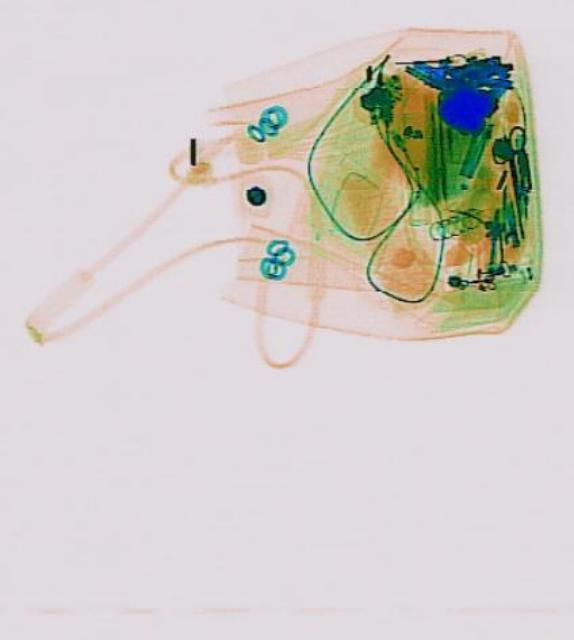Scissors: (485, 122, 542, 220)
